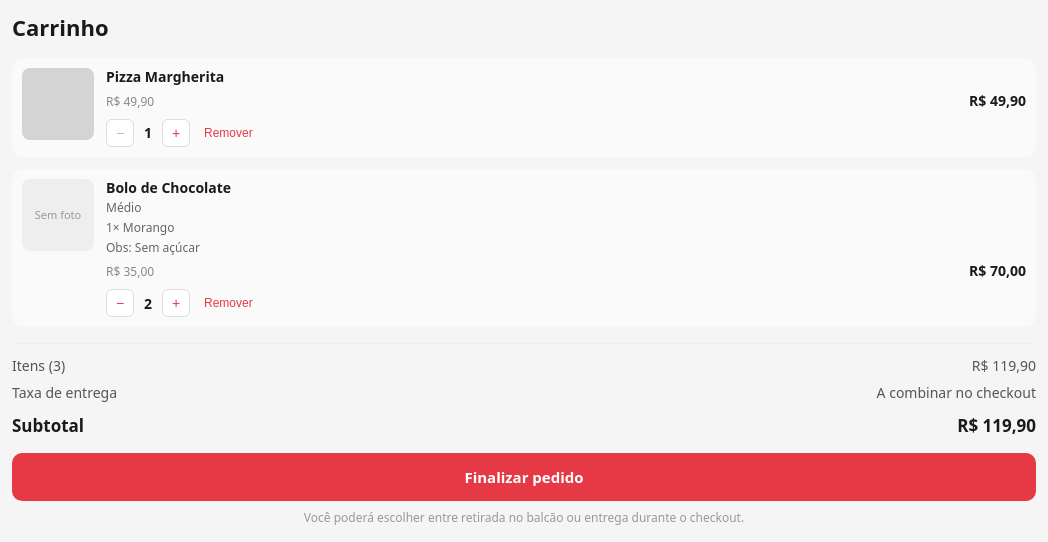
Test case: CartPage › removes item via remove button
Click the button with aria-label "Remover item" at (228, 303), box x1=200 y1=292 x2=257 y2=314
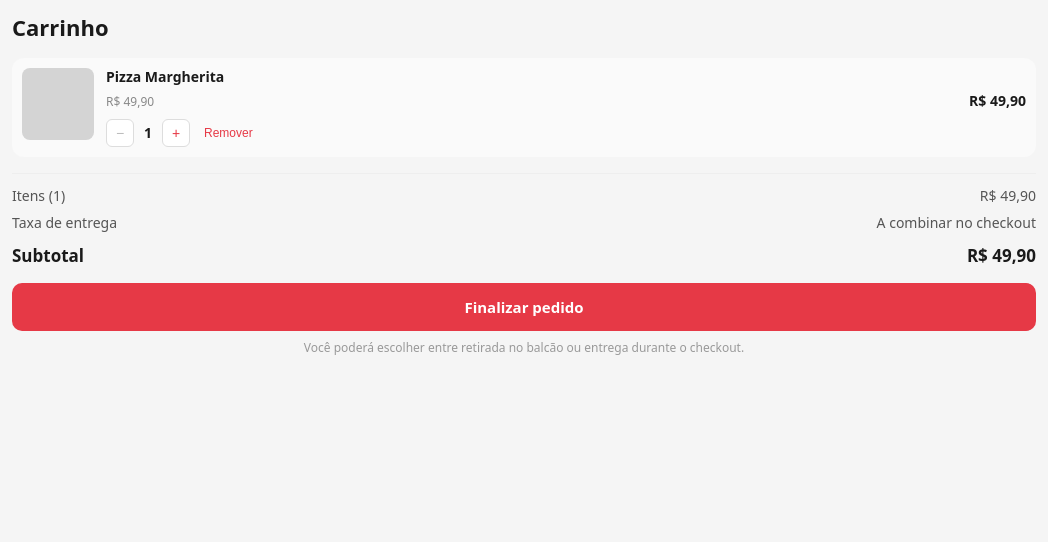
Expected: the text "Pizza Margherita" is shown, x1=106 y1=67 x2=224 y2=86
Result: the text "Bolo de Chocolate" is gone
